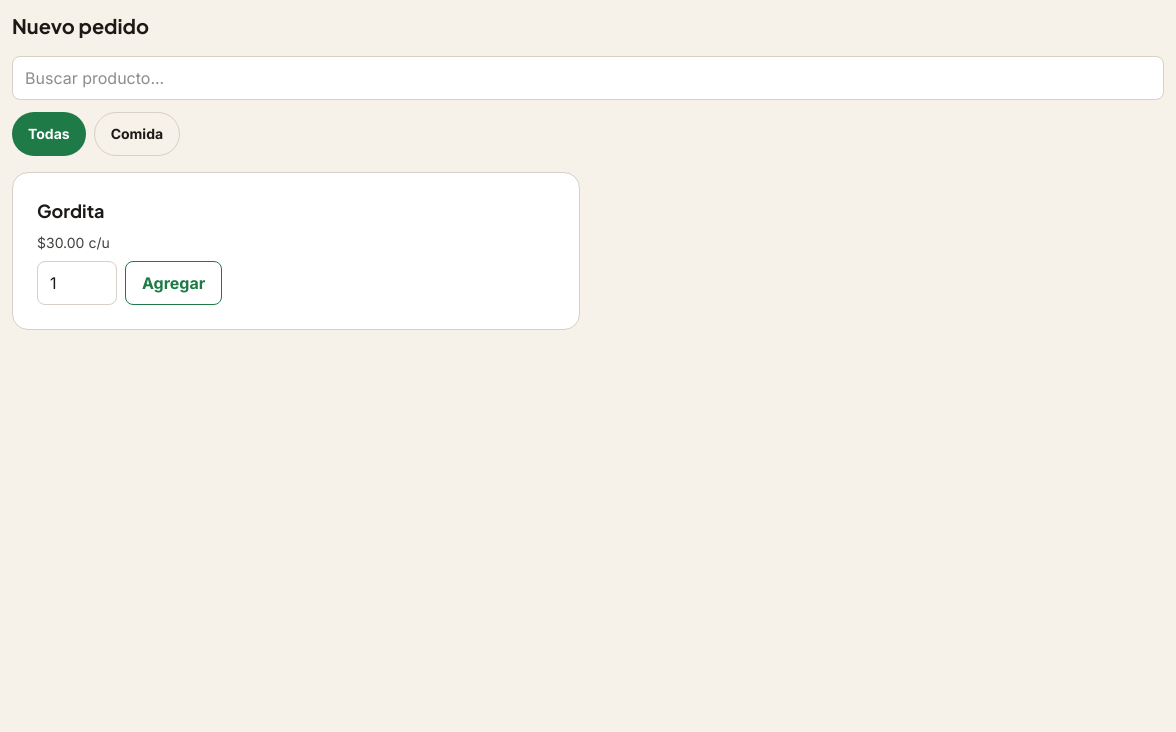
caja: folio, detalle y resumen › resumen permite quitar líneas
This screenshot has width=1176, height=732.
Check: the heading "Gordita" is shown, box left=37, top=197, right=104, bottom=225
Click the button with aria-label "Agregar Gordita".
click(174, 283)  # box left=125, top=261, right=222, bottom=305
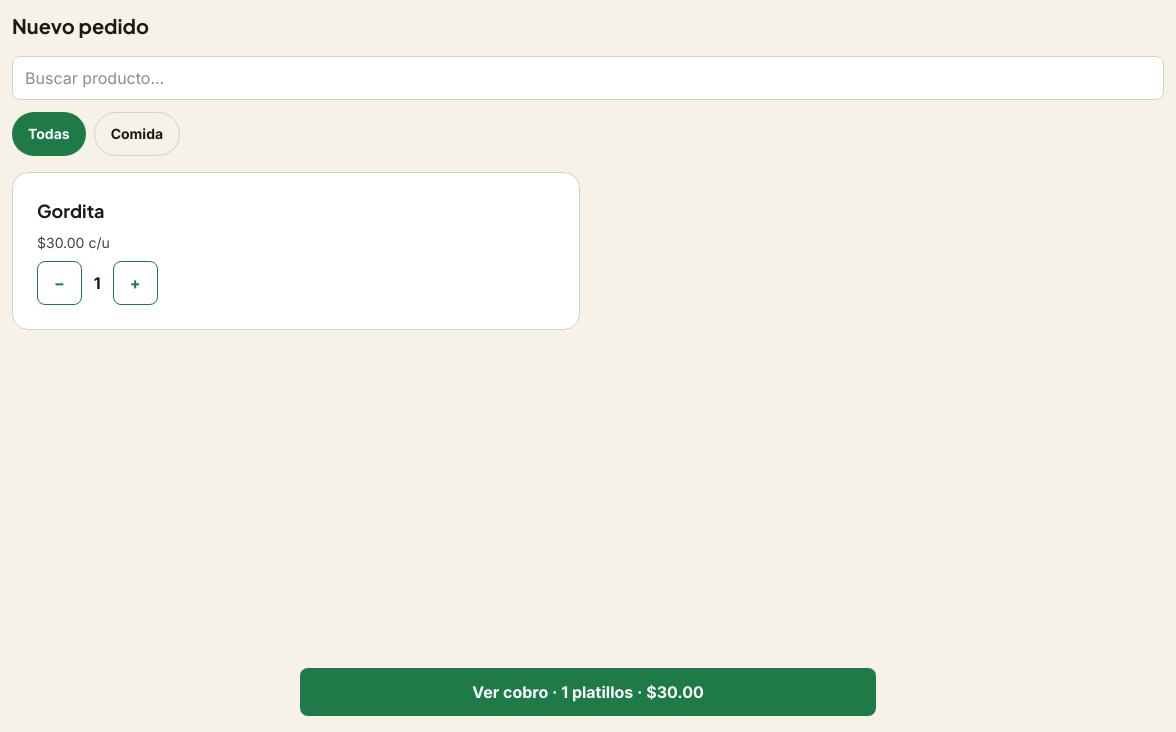
Click the link "Ver cobro · 1 platillos · $30.00".
click(588, 692)  # box left=300, top=668, right=876, bottom=716
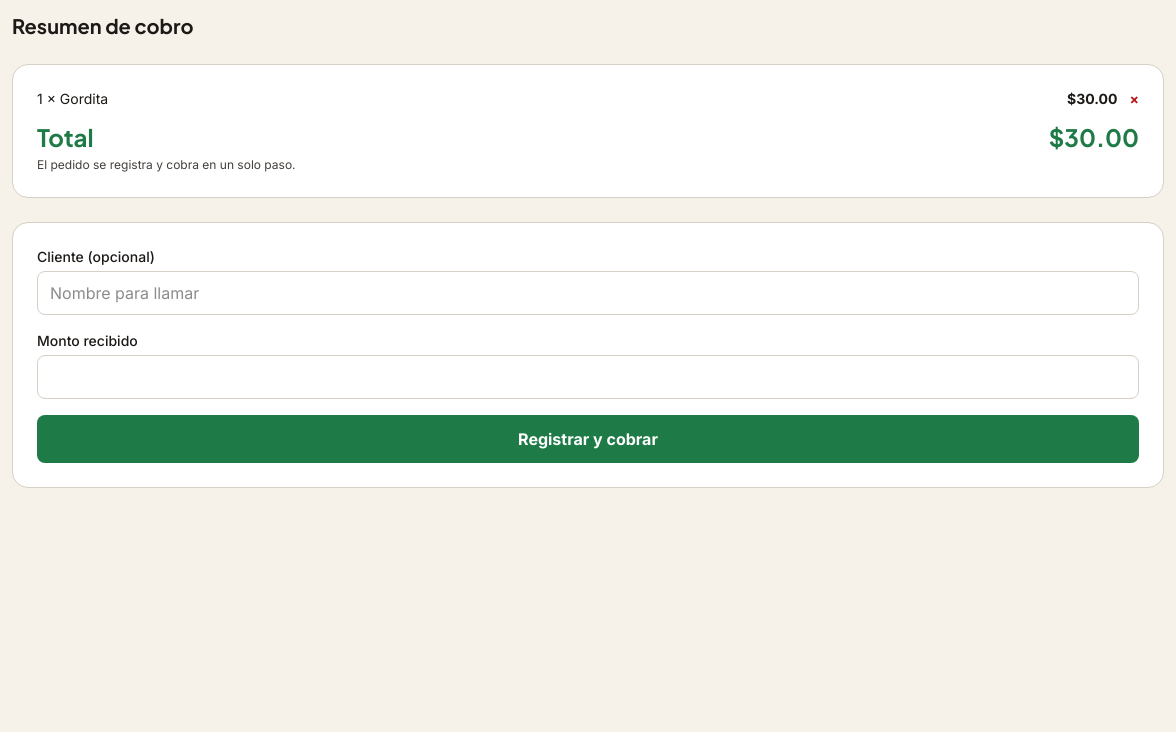
Check: the heading "Resumen de cobro" is shown, box left=12, top=13, right=194, bottom=38
Click the button named "Quitar Gordita".
click(1134, 99)  # box left=1130, top=89, right=1139, bottom=109
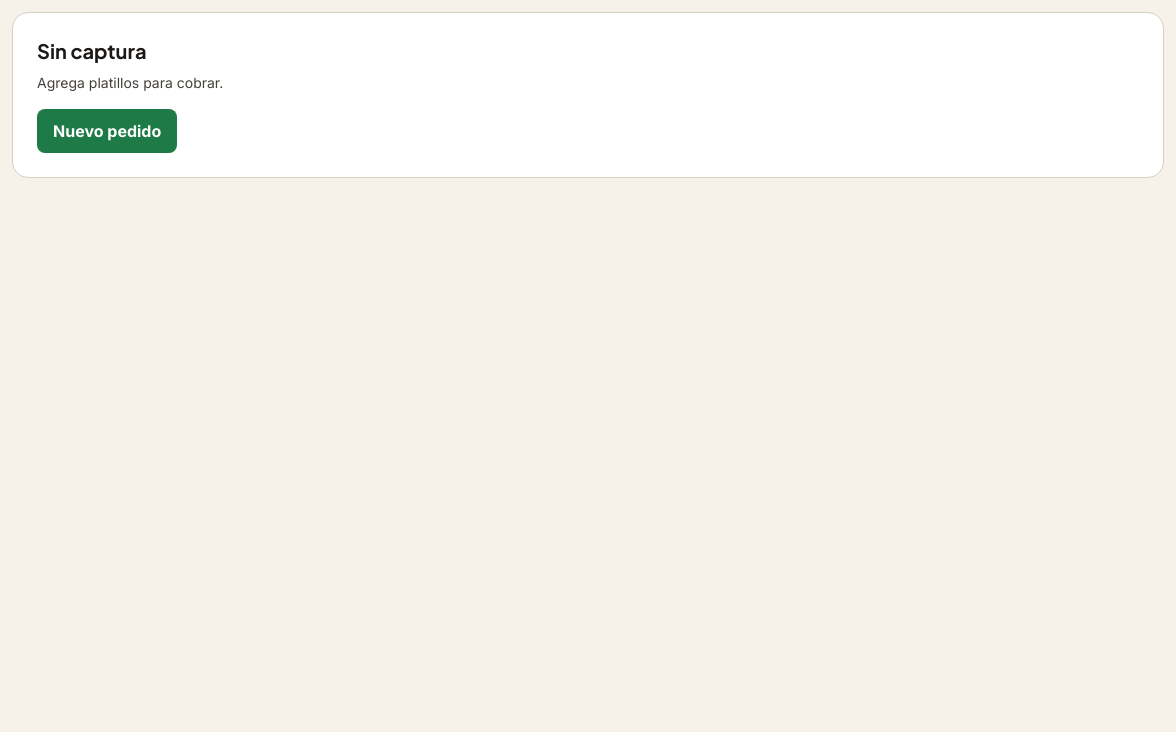
Check: the heading "Resumen de cobro" is gone
